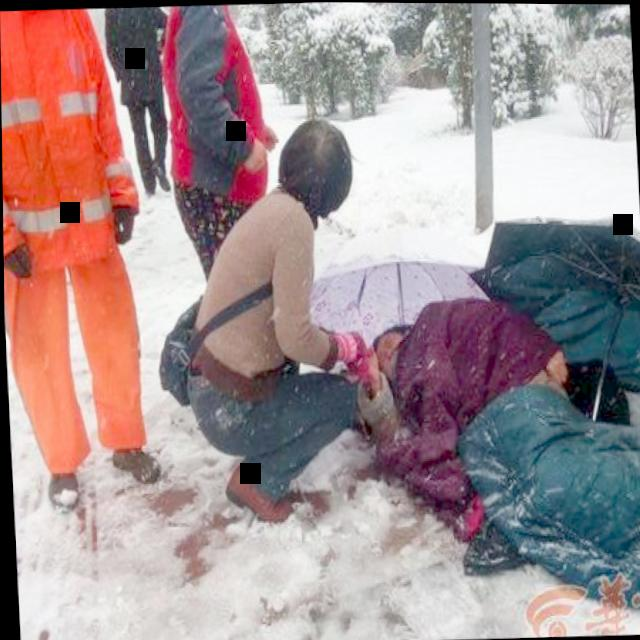Fall-Detected: (337, 271, 640, 640)
